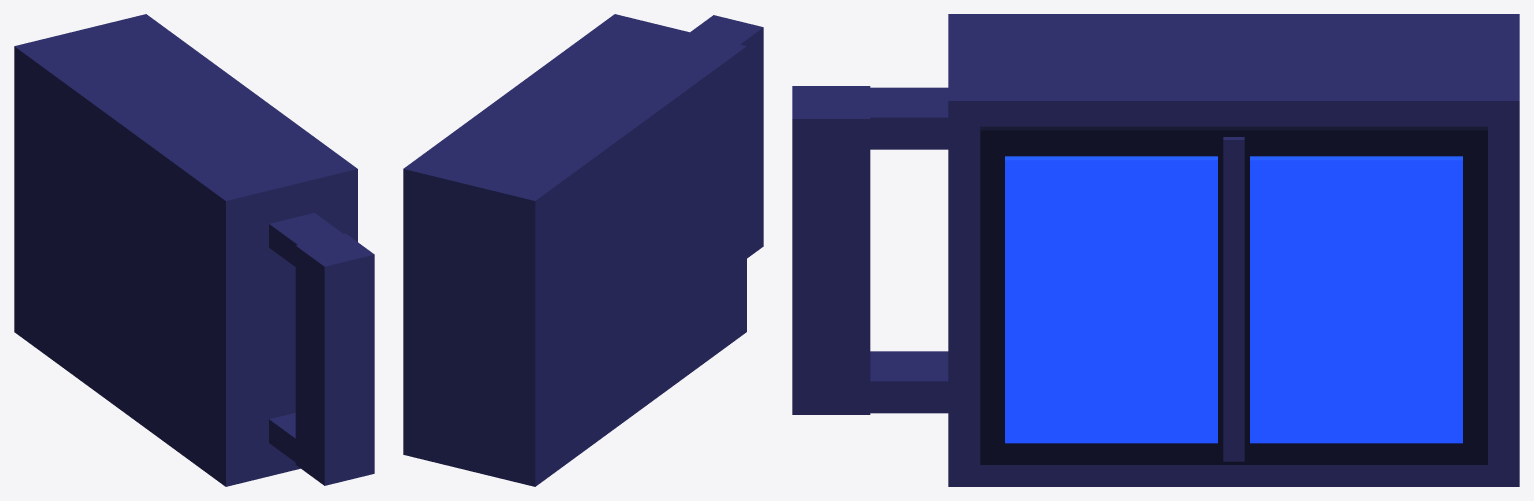
The model's file is shield_pack.lod1.glb.
3 renders of one model, left to right at view 1: azimuth 30°, elevation 25°; view 2: azimuth 150°, elevation 25°; view 3: azimuth 270°, elevation 25°, orthographic. The views are drawn at different scales.
Visible parts, largest first — view 1: item.shield_pack.body; view 2: item.shield_pack.body; view 3: item.shield_pack.body.
Part boxes in pixels (x1,y1,x2,y2): item.shield_pack.body: (14, 14, 374, 486); item.shield_pack.body: (403, 14, 763, 486); item.shield_pack.body: (792, 14, 1519, 486).
Size of the model in its own units: 0.1975 by 0.3844 by 0.6406.
